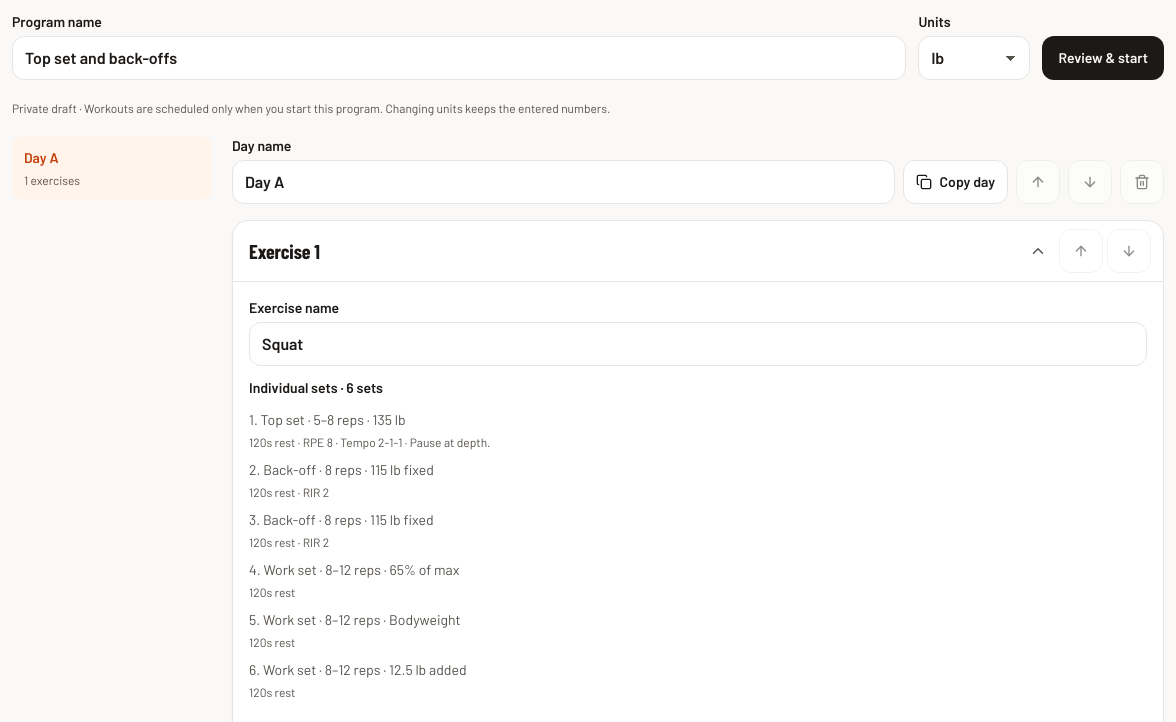
Test: day-based program builder › keeps mixed set roles and every loading mode truthful in closed summaries
The image size is (1176, 722).
Click the button with aria-label "Collapse Squat": (284, 251) [245,229,1051,273]
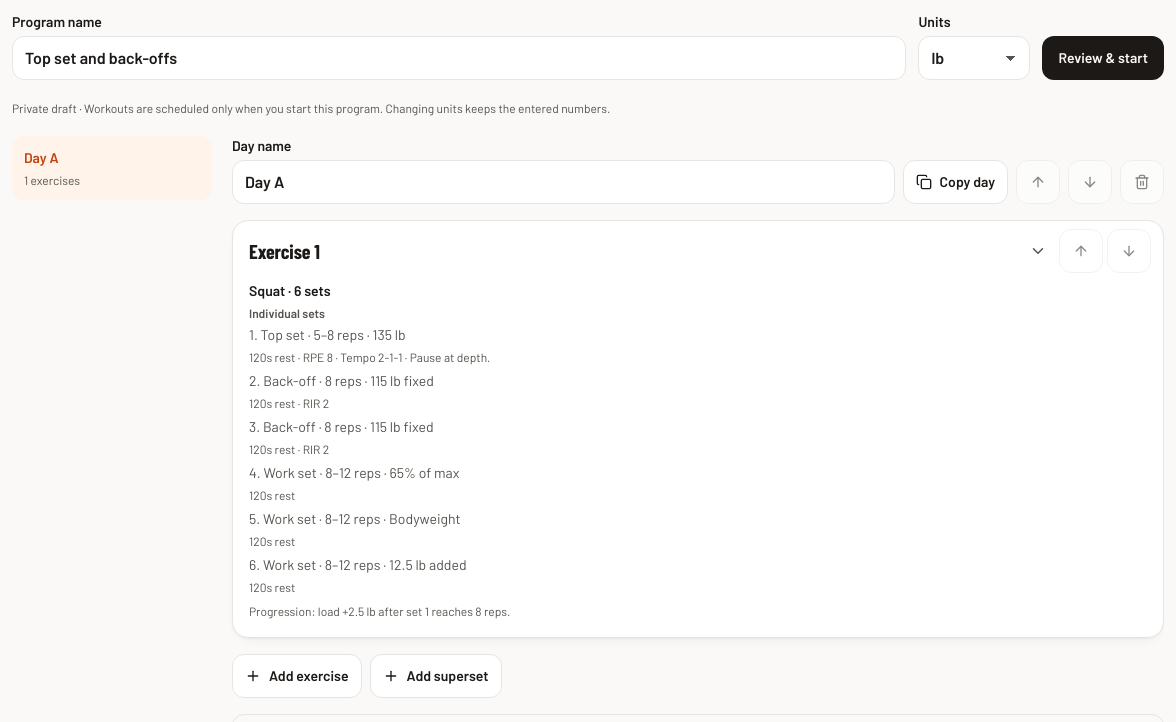
Expected: the element named "Squat summary" shows "Squat · 6 sets", [249,282,510,618]
Expected: the element named "Squat summary" shows "1. Top set · 5–8 reps · 135 lb", [249,282,510,618]
Expected: the element named "Squat summary" shows "2. Back-off · 8 reps · 115 lb fixed", [249,282,510,618]
